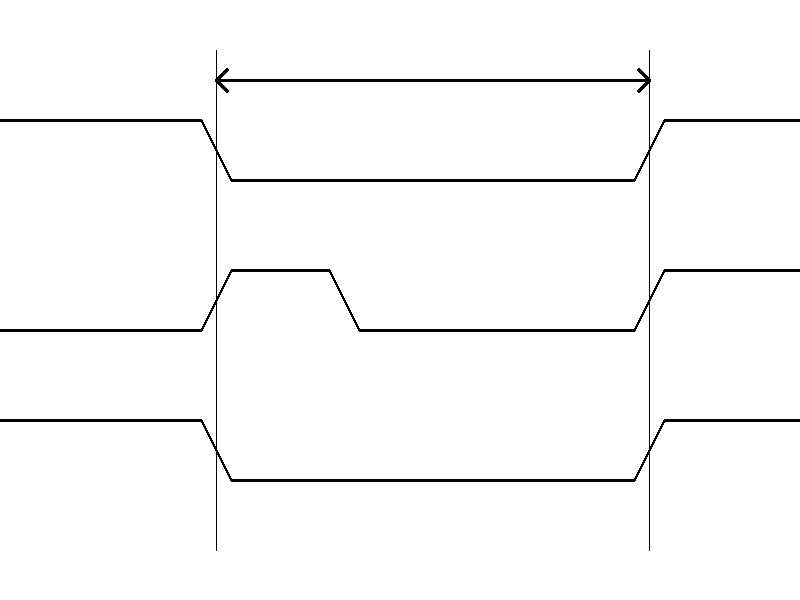double_arrow: (216, 65, 649, 95)
